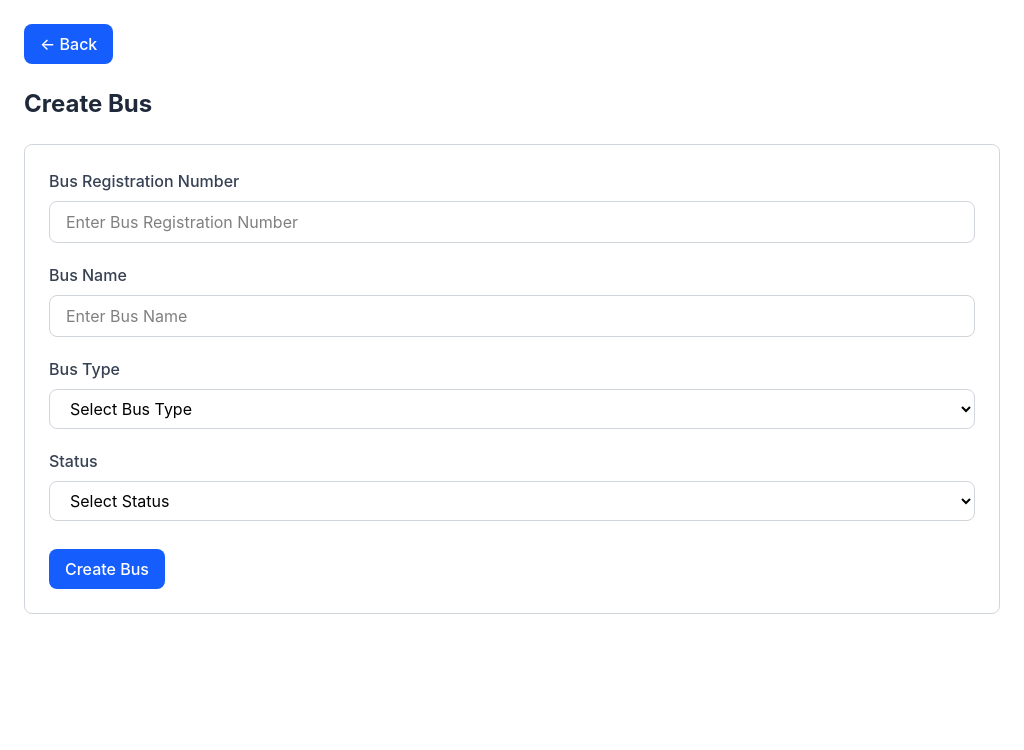
Test: CreateBus › should show validation errors when form is submitted empty
The image size is (1024, 750).
Step 1. Click the button "Create Bus" → (107, 569), box x1=49 y1=549 x2=165 y2=589
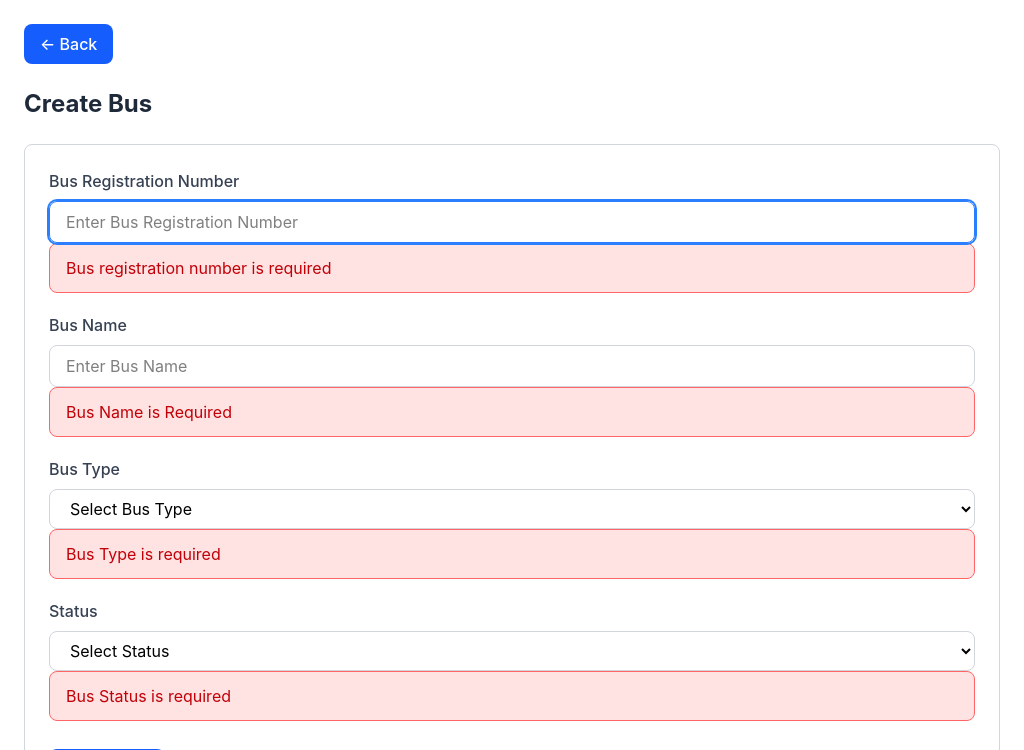
Expected: the text "Bus registration number is required" is shown, x1=66 y1=258 x2=332 y2=278
Expected: the text "Bus Name is Required" is shown, x1=66 y1=402 x2=232 y2=422
Expected: the text "Bus Type is required" is shown, x1=66 y1=544 x2=221 y2=564
